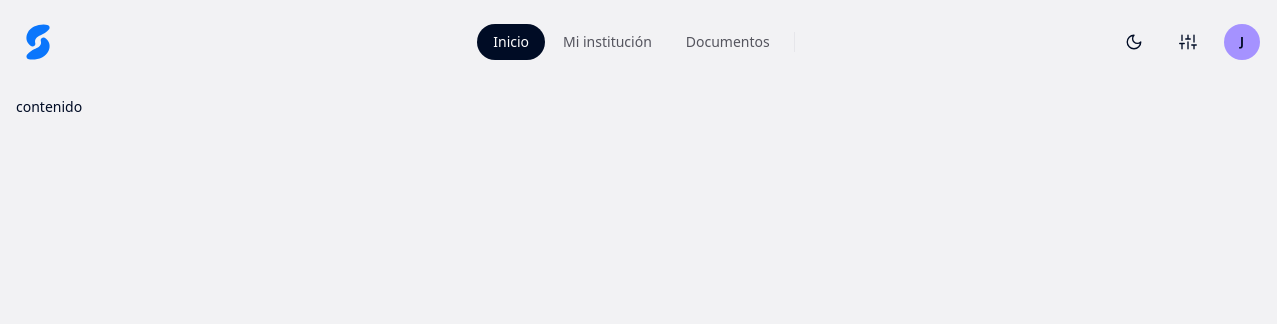
Scenario: the menu shows what each person may use › the administrator sees the administration and the AI settings in the gear
Click the button named "Configuración" at (1188, 42), box top-left (1166, 20), bottom-right (1210, 64)
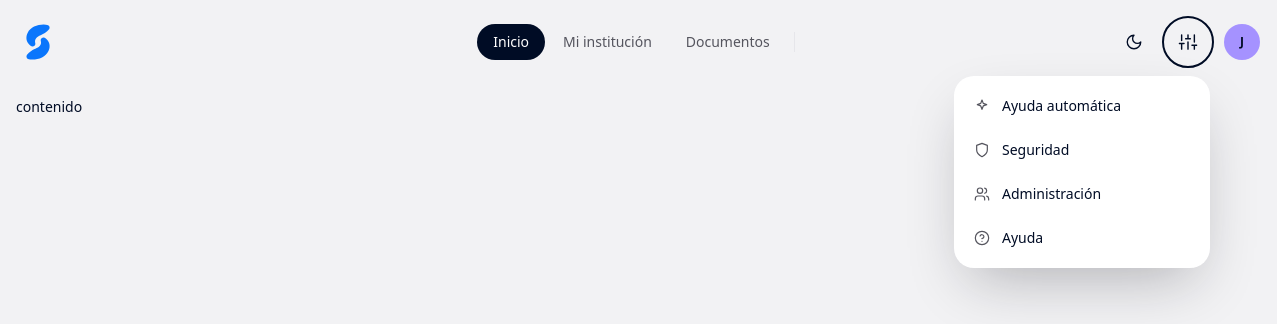
Check: the menu item "Administración" is shown, box top-left (962, 172), bottom-right (1202, 216)
Check: the menu item "Ayuda automática" is shown, box top-left (962, 84), bottom-right (1202, 128)
